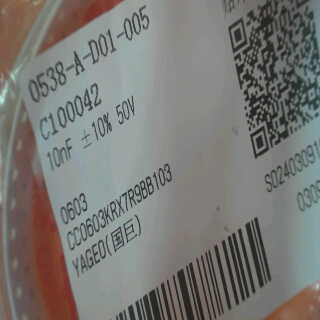10nF: (42, 135, 76, 171)
